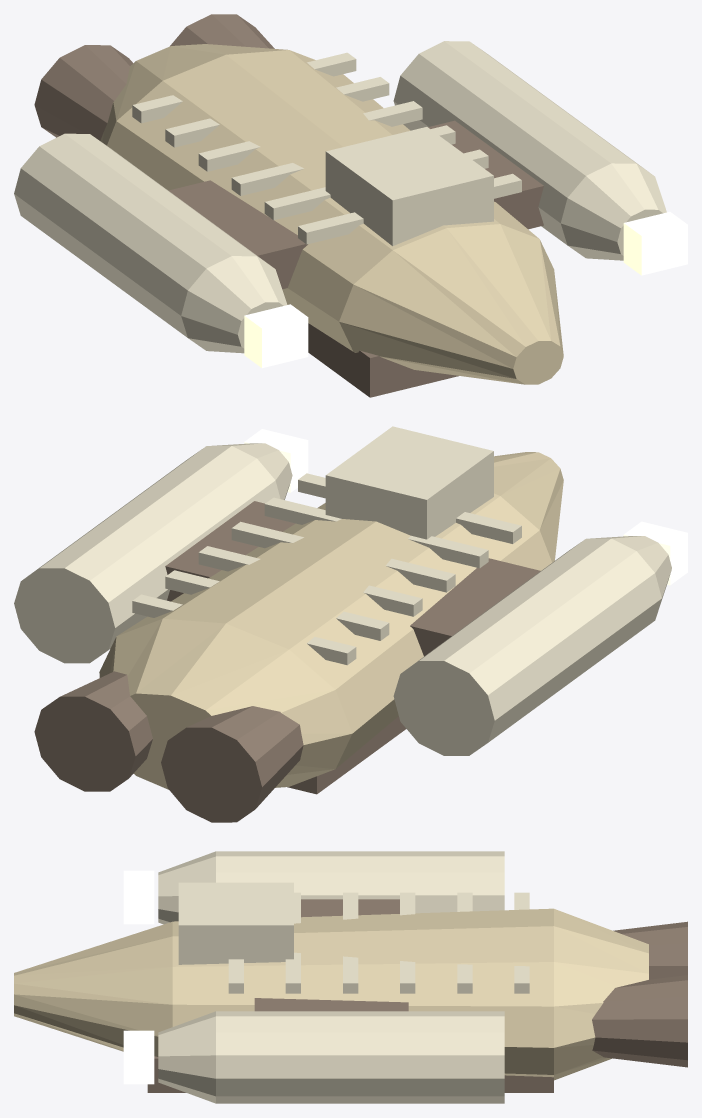
3 views of the same model, one above another, from view 1: azimuth 30°, elevation 25°; view 2: azimuth 150°, elevation 25°; view 3: azimuth 270°, elevation 25° (orthographic). The views are drawn at different scales.
Size of the model in its own units: 5.38 by 1.97 by 7.56.
